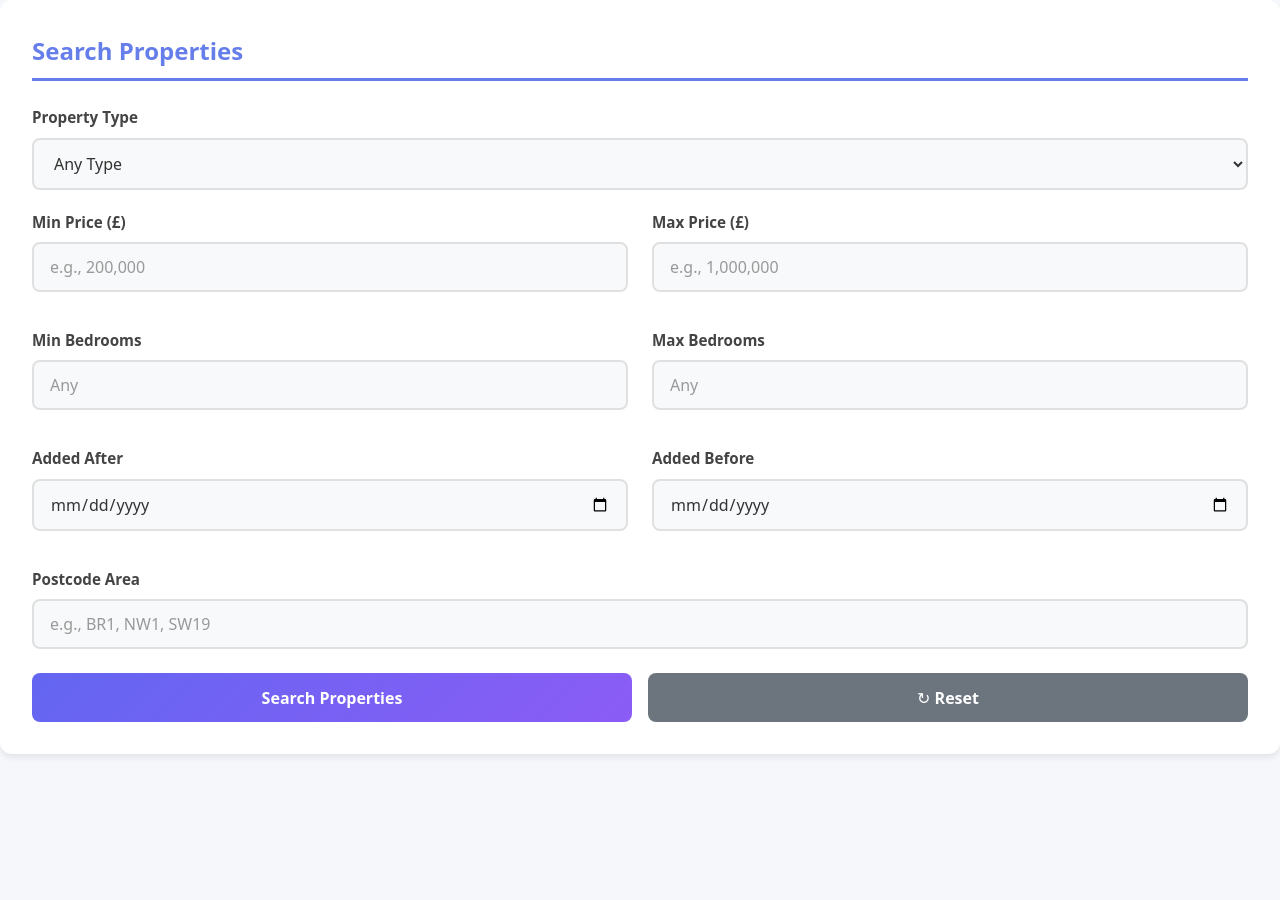
Test: SearchForm › resets form when Reset button is clicked
Type "BR1" into the field labelled "Postcode Area" at (640, 624), box 32,599 -> 1248,649
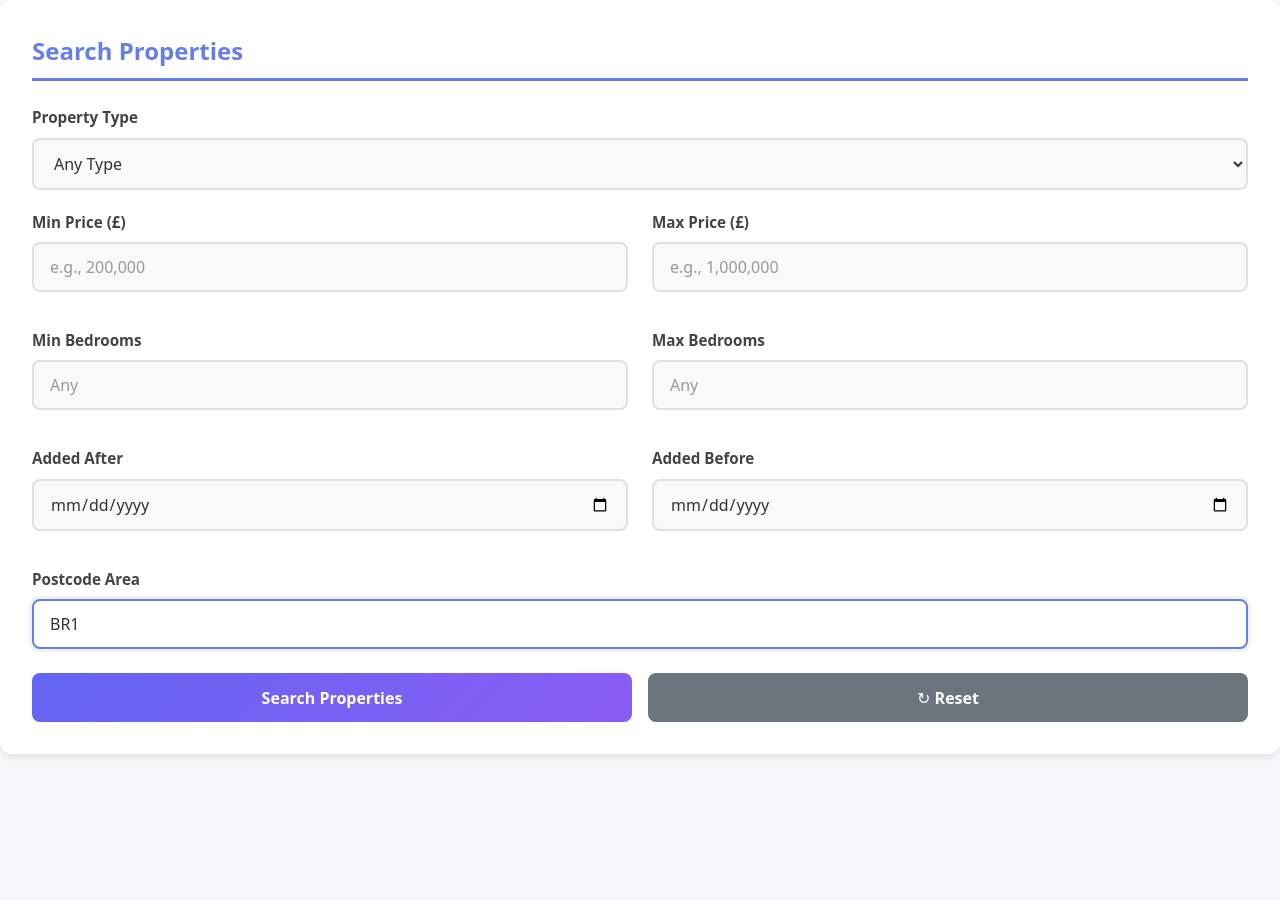
Click the button "↻ Reset" at (948, 698), box 648,673 -> 1248,722
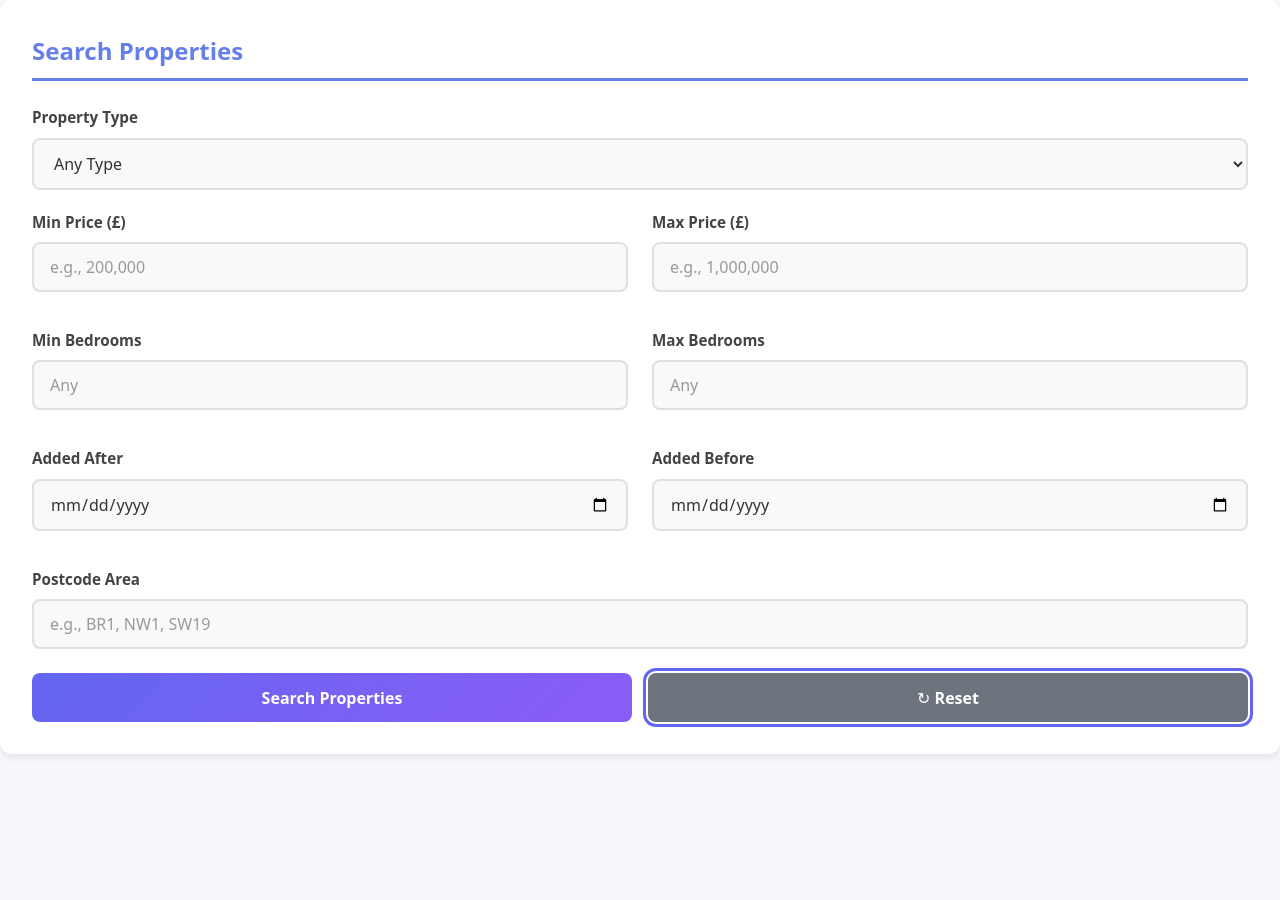
Now the field labelled "Postcode Area" is empty, box 32,599 -> 1248,649
